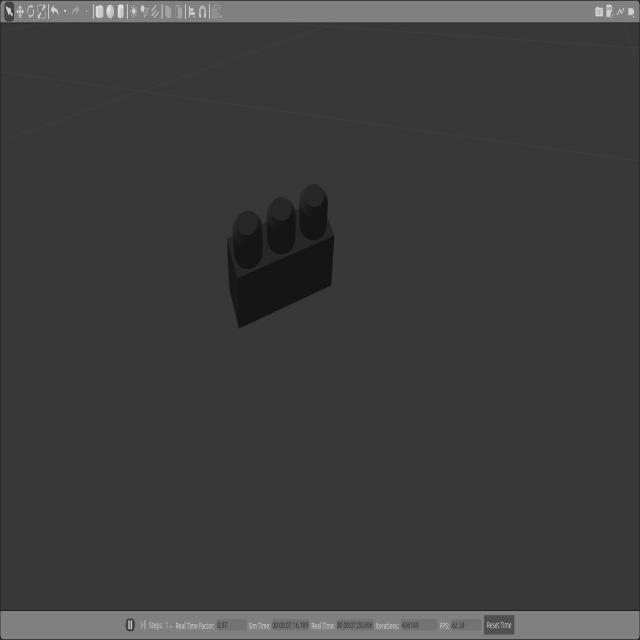block6: (227, 183, 334, 329)
